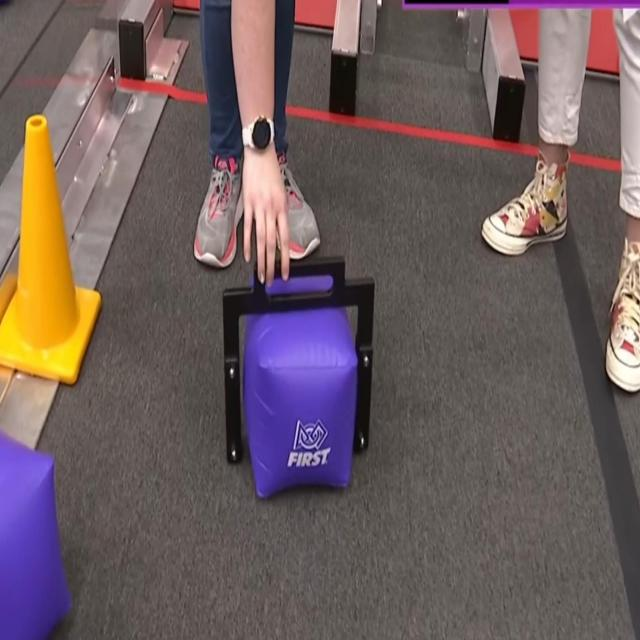frc_cone: (0, 109, 103, 391)
frc_cube: (242, 274, 358, 497), (0, 419, 71, 640)
